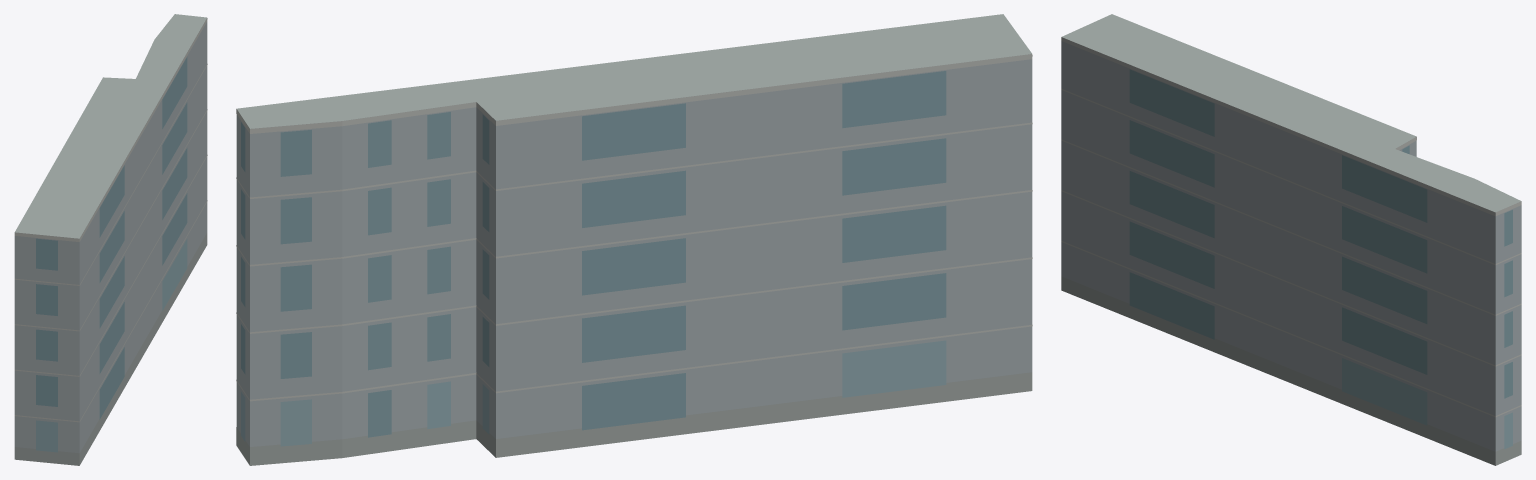
The model's file is survey-upis-32557204.glb.
3 views of the same model, side by side, from view 1: azimuth 30°, elevation 25°; view 2: azimuth 150°, elevation 25°; view 3: azimuth 270°, elevation 25° (orthographic). The views are drawn at different scales.
Parts seen in each view (by area): view 1: survey-upis-32557204.tmp; view 2: survey-upis-32557204.tmp; view 3: survey-upis-32557204.tmp.
Boxes of the visible parts, left/top/right/bottom form: survey-upis-32557204.tmp: left=14, top=14, right=207, bottom=465; survey-upis-32557204.tmp: left=236, top=14, right=1032, bottom=465; survey-upis-32557204.tmp: left=1061, top=14, right=1521, bottom=465.
Size of the model in its own units: 26.55 by 15.8 by 26.02.
